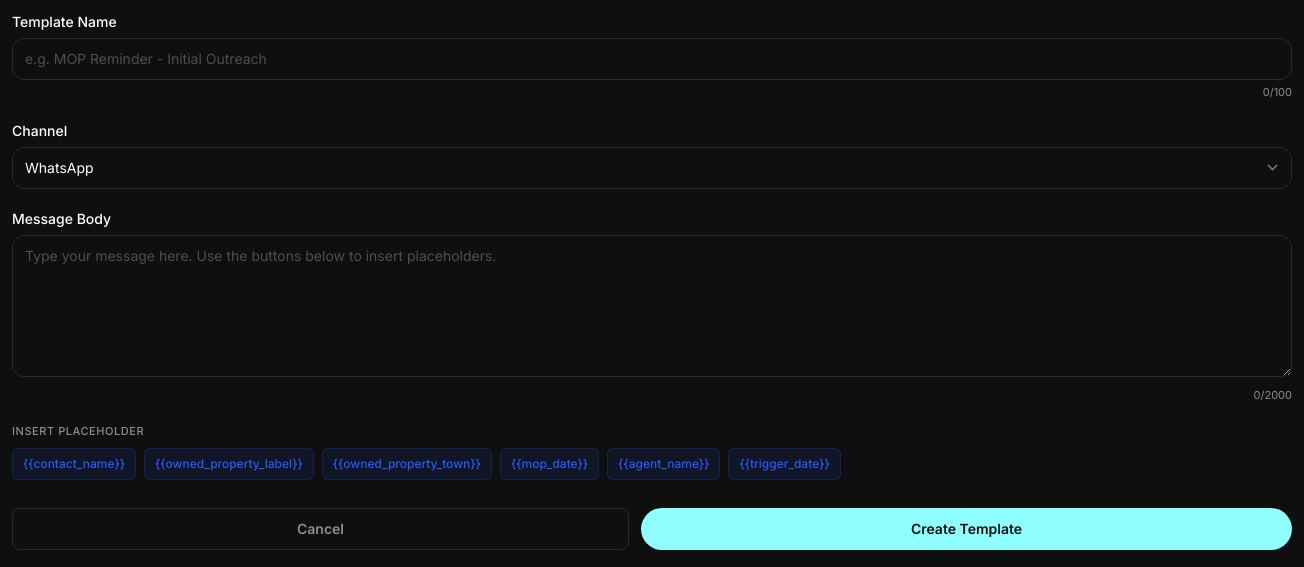
TemplateForm › shows validation error when body is empty on submit
Type "Test Template" into the field labelled "Template Name" at (652, 59), box [12, 38, 1292, 80]
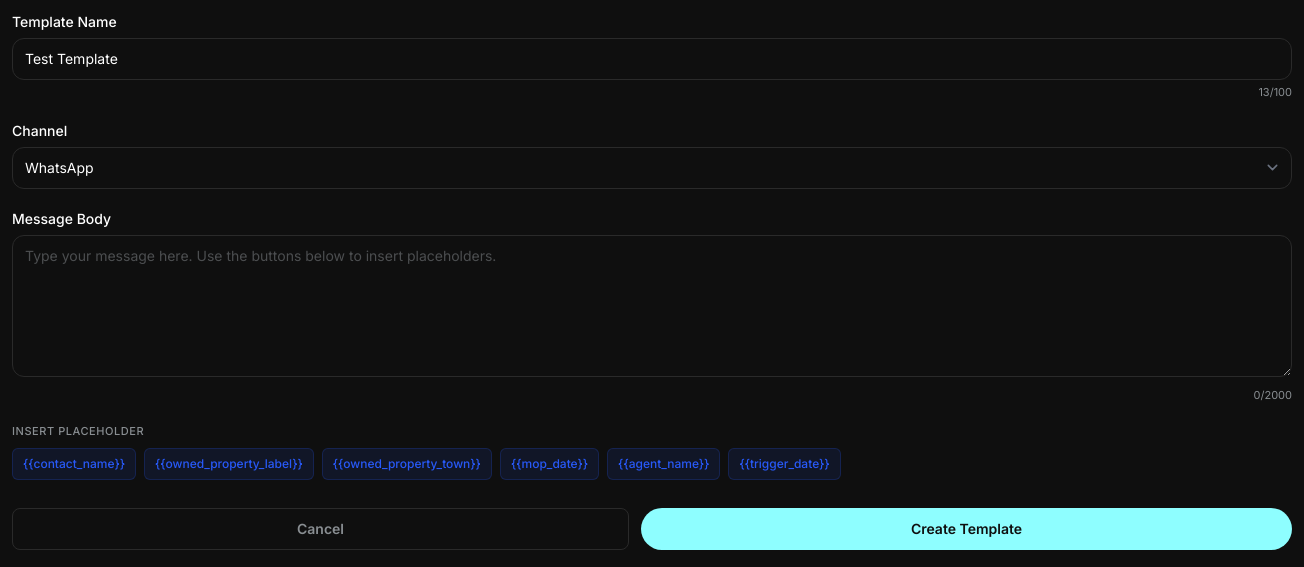
Submit the form named "Create Template"
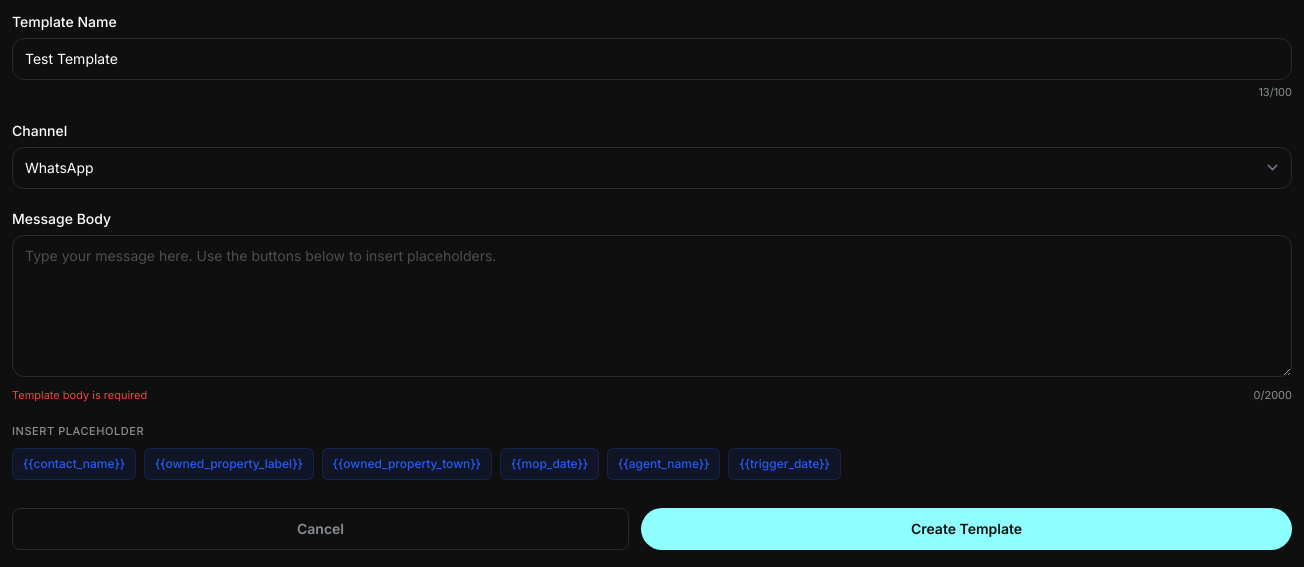
Now the text "Template body is required" is shown, box [12, 386, 147, 403]
